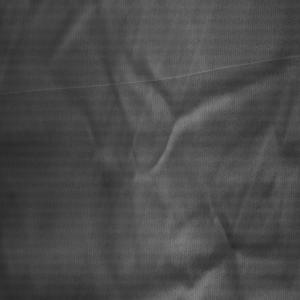Wrinkle: (11, 3, 300, 300)
